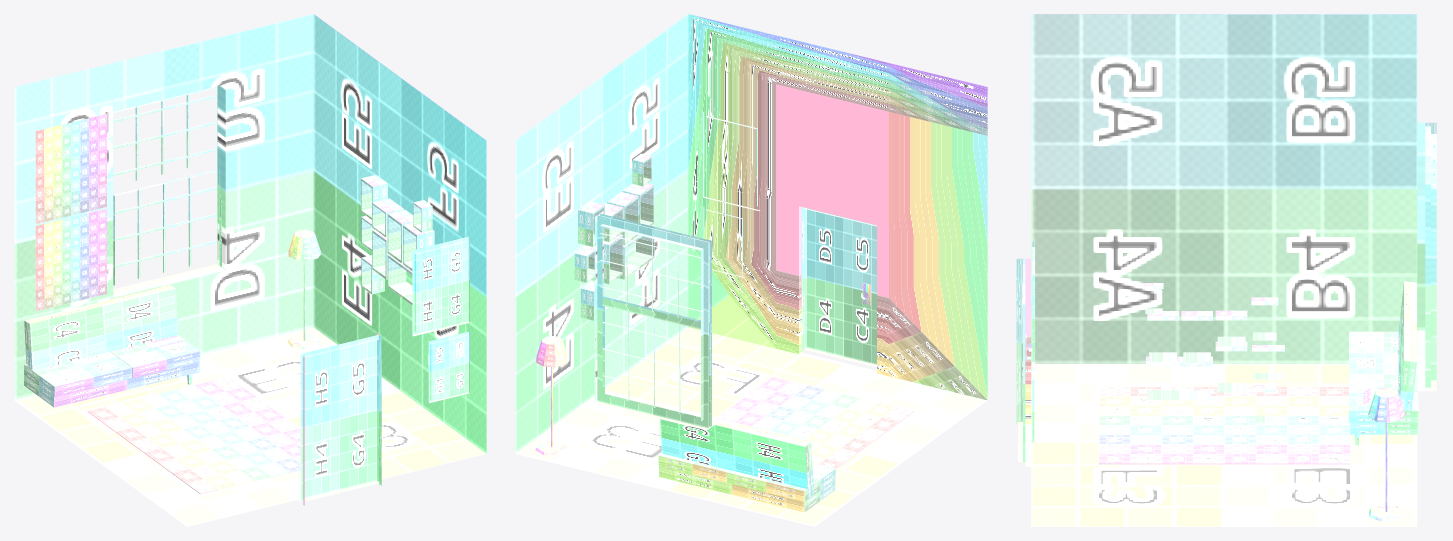
File: Habitacion.gltf
3 renders of one model, left to right at view 1: azimuth 30°, elevation 25°; view 2: azimuth 150°, elevation 25°; view 3: azimuth 270°, elevation 25°, orthographic. The views are drawn at different scales.
Visible parts, largest first — view 1: Habitacion; view 2: Habitacion; view 3: Habitacion.
Part boxes in pixels (x1,y1,x2,y2): Habitacion: (14,14,486,526); Habitacion: (515,14,987,526); Habitacion: (1016,14,1436,526).
Size of what is drawn, in the model's own units: 4.24 by 4.25 by 4.64.
